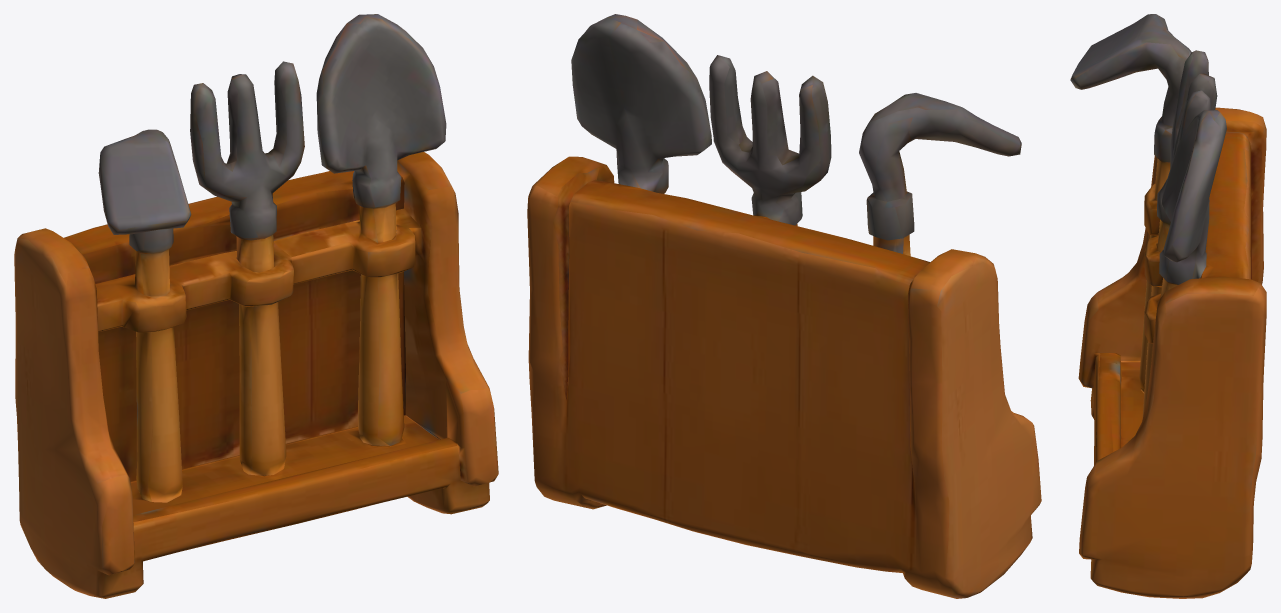
Rendered from tool_rack.glb.
3 renders of one model, left to right at view 1: azimuth 30°, elevation 25°; view 2: azimuth 150°, elevation 25°; view 3: azimuth 270°, elevation 25°, orthographic. The views are drawn at different scales.
Visible parts, largest first — view 1: textured_mesh.obj; view 2: textured_mesh.obj; view 3: textured_mesh.obj.
Part boxes in pixels (x1,y1,x2,y2): textured_mesh.obj: [14, 14, 498, 598]; textured_mesh.obj: [527, 14, 1041, 598]; textured_mesh.obj: [1070, 14, 1266, 598].
Size of what is drawn, in the model's own units: 1.76 by 2 by 0.7769.
1 material, 1 textured.
